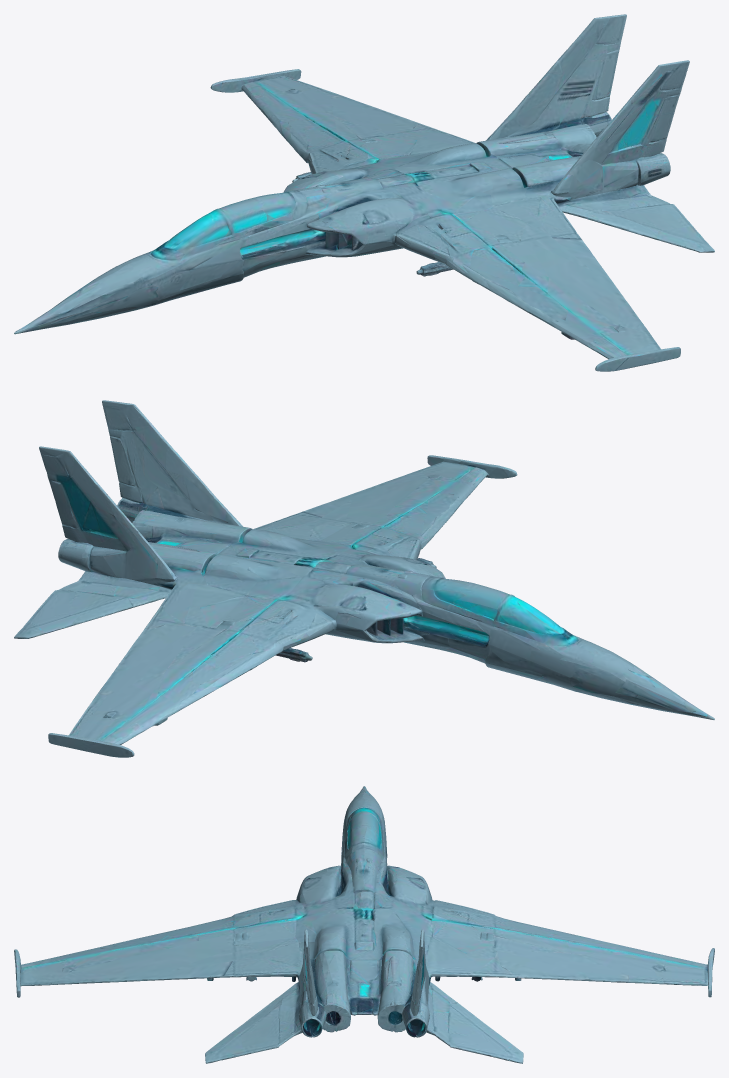
The model's file is m_sky_jet.glb.
3 renders of one model, top to bottom at view 1: azimuth 30°, elevation 25°; view 2: azimuth 150°, elevation 25°; view 3: azimuth 270°, elevation 25°, orthographic. The views are drawn at different scales.
Bounding box in the file's own units: 1.84 × 0.4028 × 1.91.
1 material, 1 textured.
